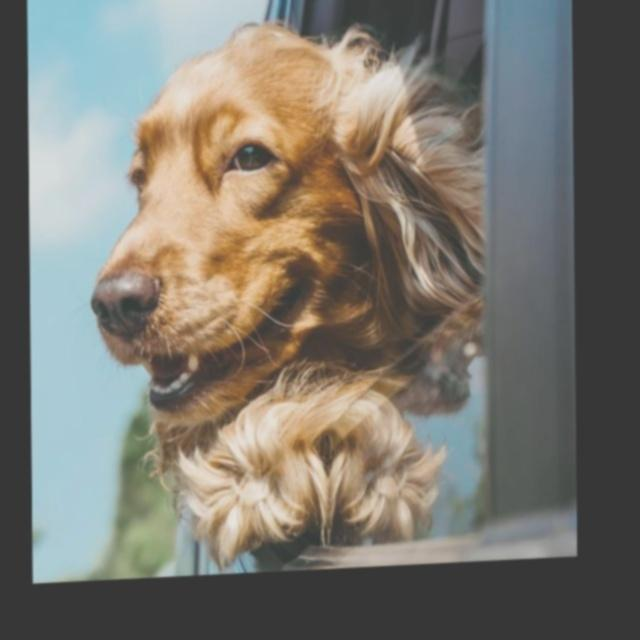dog: (90, 0, 452, 555)
